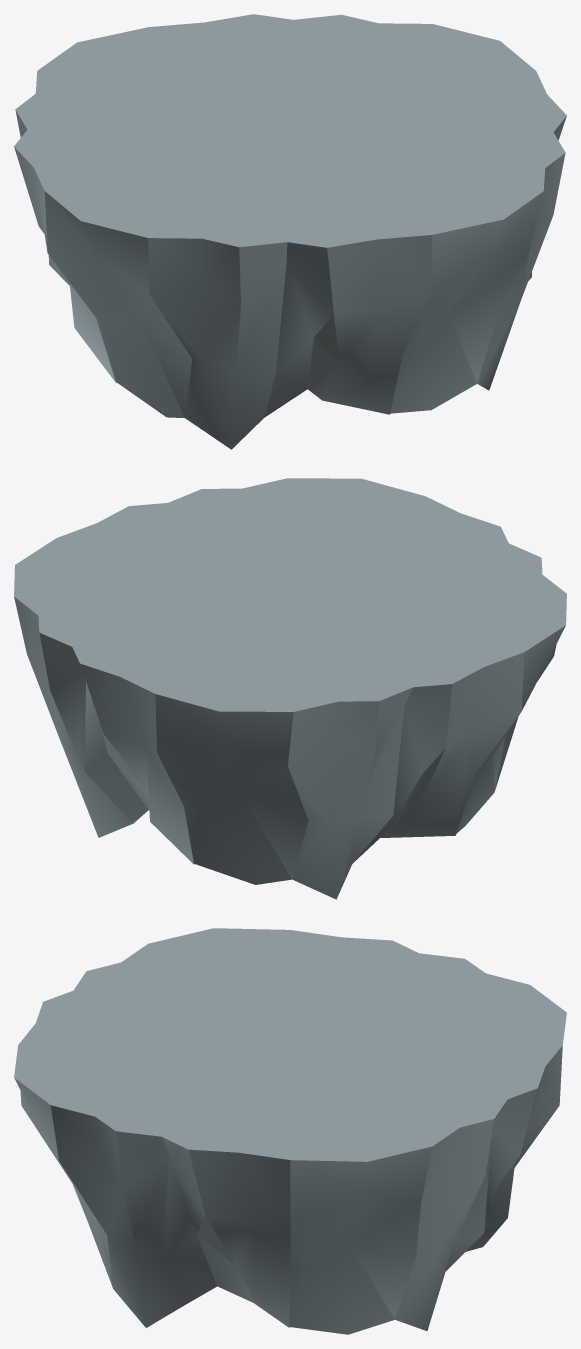
File: ARENA_UVd.fbx
The picture shows the model from 3 angles, top to bottom: view 1: azimuth 30°, elevation 25°; view 2: azimuth 150°, elevation 25°; view 3: azimuth 270°, elevation 25°; orthographic projection. The views are drawn at different scales.
Visible parts, largest first — view 1: polySurface5, polySurface4, polySurface12, polySurface25, polySurface7, polySurface17, polySurface22, polySurface24, polySurface23, polySurface19, polySurface18, polySurface21 (+1 smaller); view 2: polySurface5, polySurface19, polySurface24, polySurface22, polySurface18, polySurface21, polySurface25, polySurface12, polySurface23, polySurface4, polySurface17, polySurface20 (+1 smaller); view 3: polySurface5, polySurface23, polySurface17, polySurface18, polySurface20, polySurface12, polySurface21, polySurface25, polySurface24, polySurface19, polySurface4, polySurface7 (+1 smaller).
Boxes of the visible parts, x1,y1,x2,y2 form: polySurface5: (124,61,456,200); polySurface4: (148,195,333,449); polySurface12: (376,167,543,413); polySurface25: (44,167,204,417); polySurface7: (288,193,432,414); polySurface17: (442,115,566,390); polySurface22: (14,130,142,382); polySurface24: (37,27,204,94); polySurface23: (376,24,535,94); polySurface19: (14,71,138,285); polySurface18: (254,14,431,66); polySurface21: (149,14,292,68); polySurface5: (125,525,456,665); polySurface19: (279,650,452,899); polySurface24: (155,654,311,884); polySurface22: (364,629,524,837); polySurface18: (14,590,158,837); polySurface21: (80,626,208,864); polySurface25: (431,586,566,833); polySurface12: (269,478,425,535); polySurface23: (14,538,149,603); polySurface4: (422,527,566,790); polySurface17: (129,478,301,539); polySurface20: (57,506,216,560); polySurface5: (127,976,453,1114); polySurface23: (285,1106,432,1334); polySurface17: (50,1081,217,1327); polySurface18: (376,1078,537,1330); polySurface20: (188,1100,307,1327); polySurface12: (14,1043,146,1288); polySurface21: (421,1038,562,1251); polySurface25: (148,928,294,983); polySurface24: (434,985,566,1046); polySurface19: (368,940,529,1008); polySurface4: (43,944,204,1012); polySurface7: (18,1002,159,1217).
Size of the model in its own units: 194 by 90.29 by 194.
